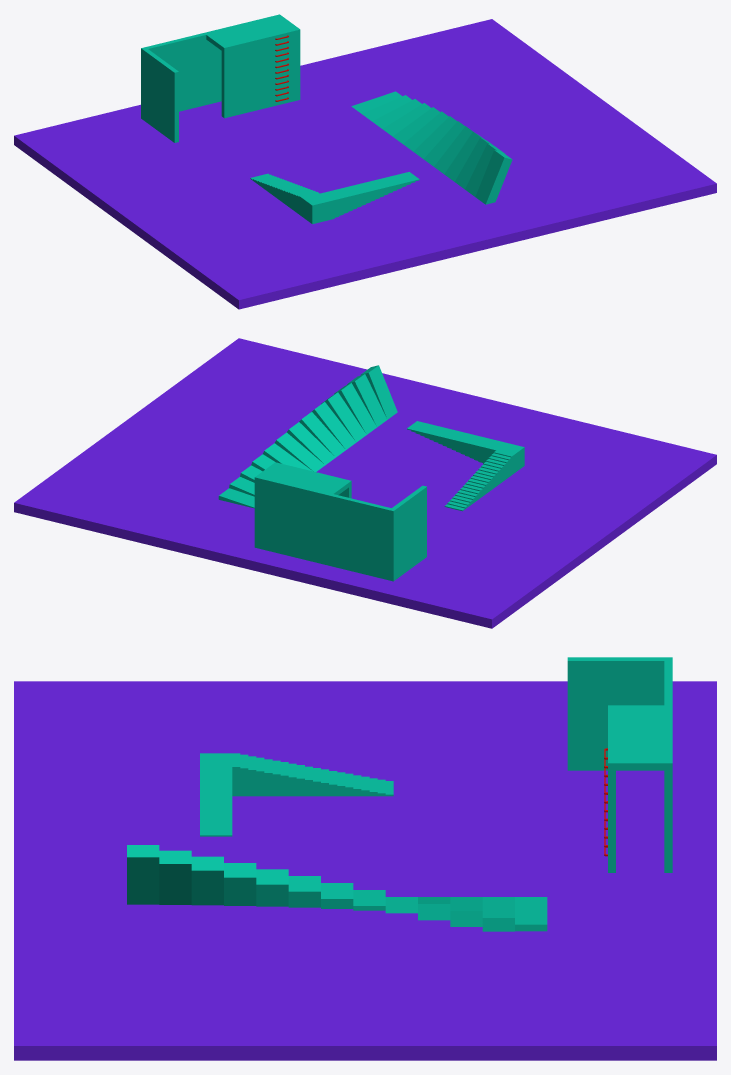
File: dev_map.glb
3 renders of one model, top to bottom at view 1: azimuth 30°, elevation 25°; view 2: azimuth 150°, elevation 25°; view 3: azimuth 270°, elevation 25°, orthographic. The views are drawn at different scales.
Parts seen in each view (by area): view 1: Plane, Cube, Ramps, Stairs; view 2: Plane, Cube, Ramps, Stairs; view 3: Plane, Ramps, Cube, Stairs.
Part boxes in pixels (x1=…): Plane: x1=14, y1=19, x2=716, y2=309; Cube: x1=141, y1=14, x2=300, y2=142; Ramps: x1=351, y1=91, x2=512, y2=204; Stairs: x1=250, y1=172, x2=419, y2=224; Plane: x1=14, y1=338, x2=716, y2=628; Cube: x1=254, y1=462, x2=426, y2=581; Ramps: x1=218, y1=365, x2=397, y2=508; Stairs: x1=407, y1=421, x2=524, y2=511; Plane: x1=14, y1=681, x2=716, y2=1060; Ramps: x1=127, y1=845, x2=547, y2=931; Cube: x1=567, y1=657, x2=672, y2=872; Stairs: x1=200, y1=753, x2=393, y2=836.
Size of what is drawn, in the model's own units: 107 by 17 by 87.
